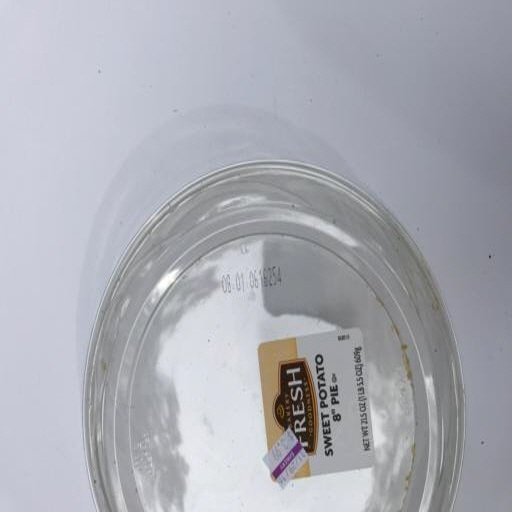Plastic_5: (81, 159, 465, 512)
